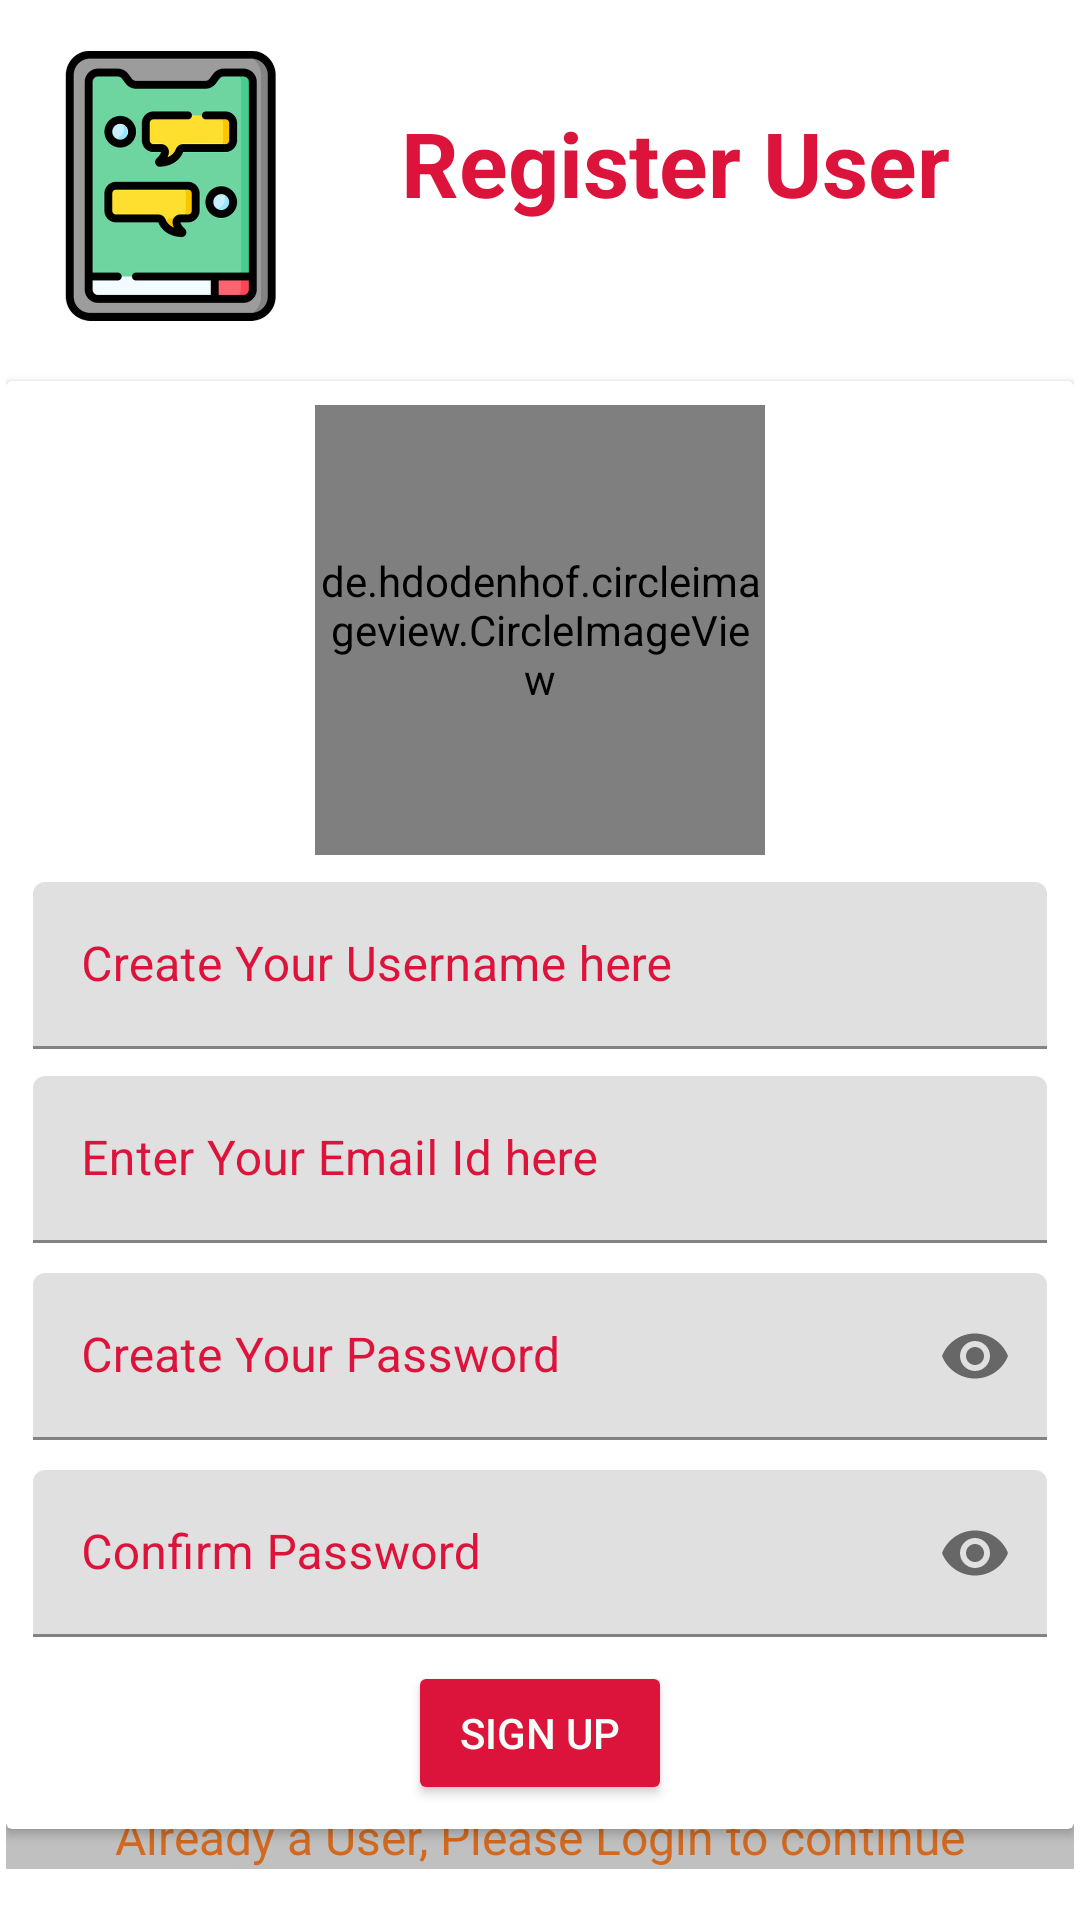

Where to tap for icons on this 1080w x 1920h app screen, as point (x, y):
chat: point (170, 186)
